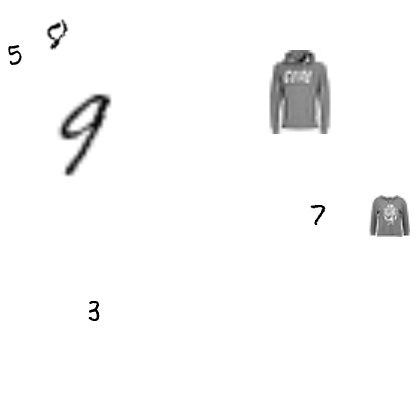3: (80, 297, 108, 325)
5: (0, 40, 28, 68)
7: (304, 198, 332, 226)
8: (35, 12, 77, 54)
9: (26, 71, 138, 183)
Pullover: (258, 50, 342, 134), (368, 195, 410, 237)
